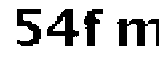4: (46, 7, 80, 50)
5: (13, 6, 46, 49)
f: (83, 7, 108, 51)
m: (115, 16, 160, 49)
